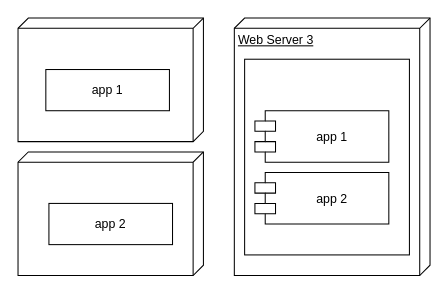
The diagram is 448 pixels wide and 294 high, and some of its shapes have lost their labels. Here are the shapes that lost their labels. From the top down, the box of each, then its label:
(17, 17, 203, 142): Web Server 1
(244, 58, 409, 255): app 3
(17, 151, 203, 276): Web Server 2
